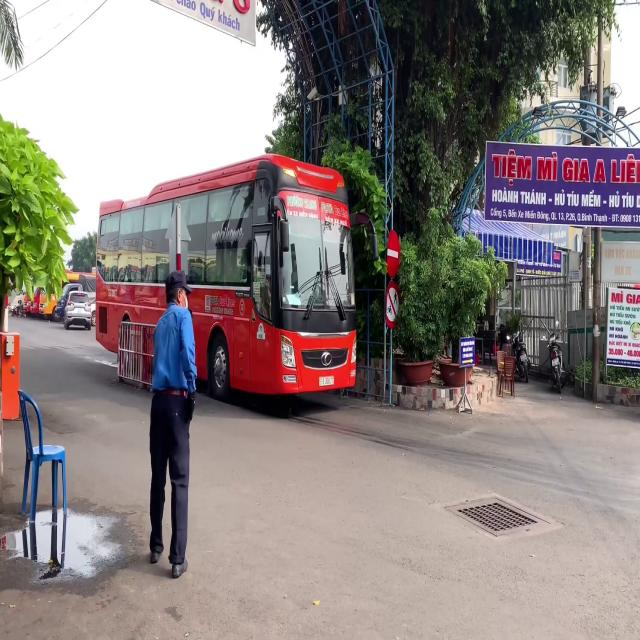bien_trang: (319, 374, 334, 386)
